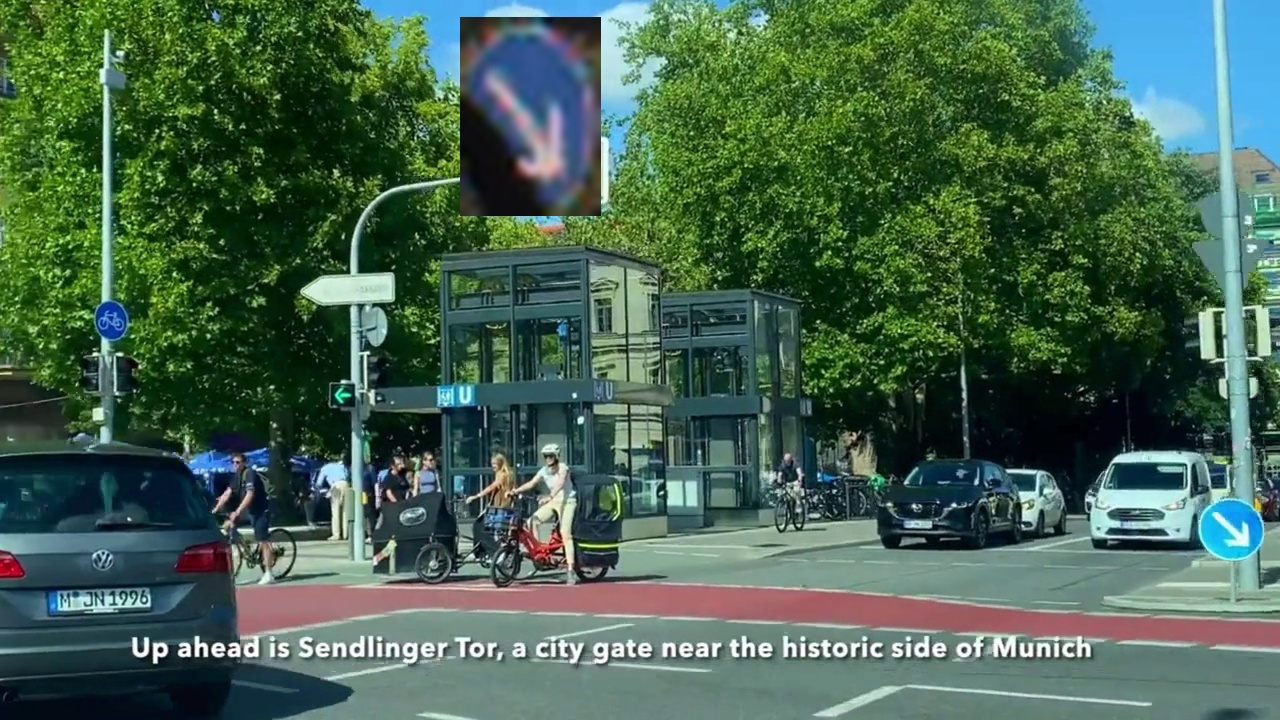Keep right: (460, 17, 601, 216)
